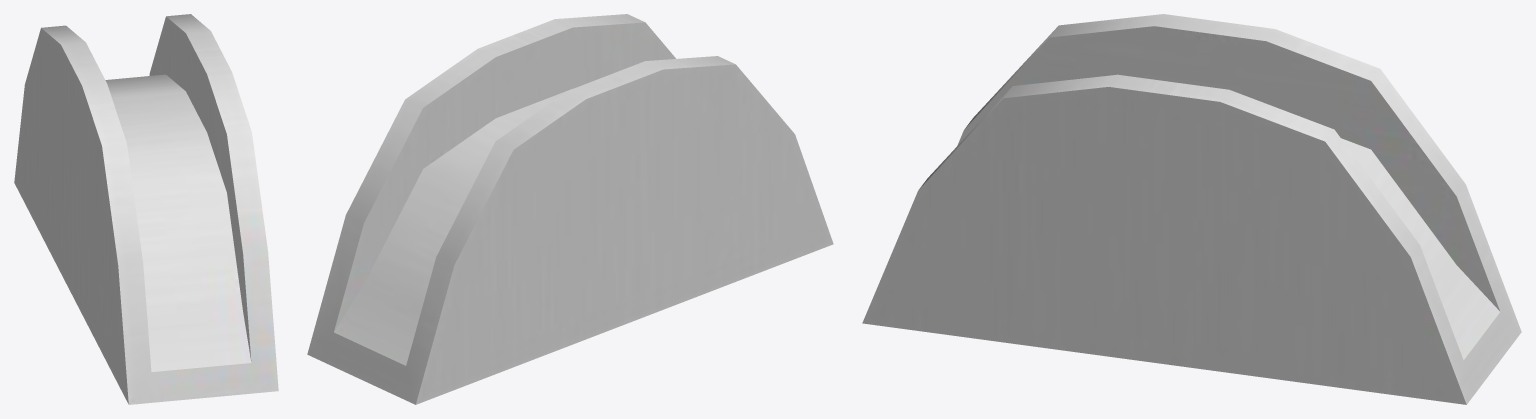
The model's file is tool_pipe_bender_crossbow_nozzle_01.glb.
The picture shows the model from 3 angles, left to right: view 1: azimuth 30°, elevation 25°; view 2: azimuth 150°, elevation 25°; view 3: azimuth 270°, elevation 25°; orthographic projection. The views are drawn at different scales.
Parts seen in each view (by area): view 1: tool_pipe_bender_crossbow_nozzle_01; view 2: tool_pipe_bender_crossbow_nozzle_01; view 3: tool_pipe_bender_crossbow_nozzle_01.
Part boxes in pixels (x1,y1,x2,y2): tool_pipe_bender_crossbow_nozzle_01: [14, 14, 278, 404]; tool_pipe_bender_crossbow_nozzle_01: [307, 14, 833, 404]; tool_pipe_bender_crossbow_nozzle_01: [862, 14, 1521, 404].
Bounding box in the file's own units: 0.0732 × 0.0596 × 0.1321.
1 material, 1 textured.
